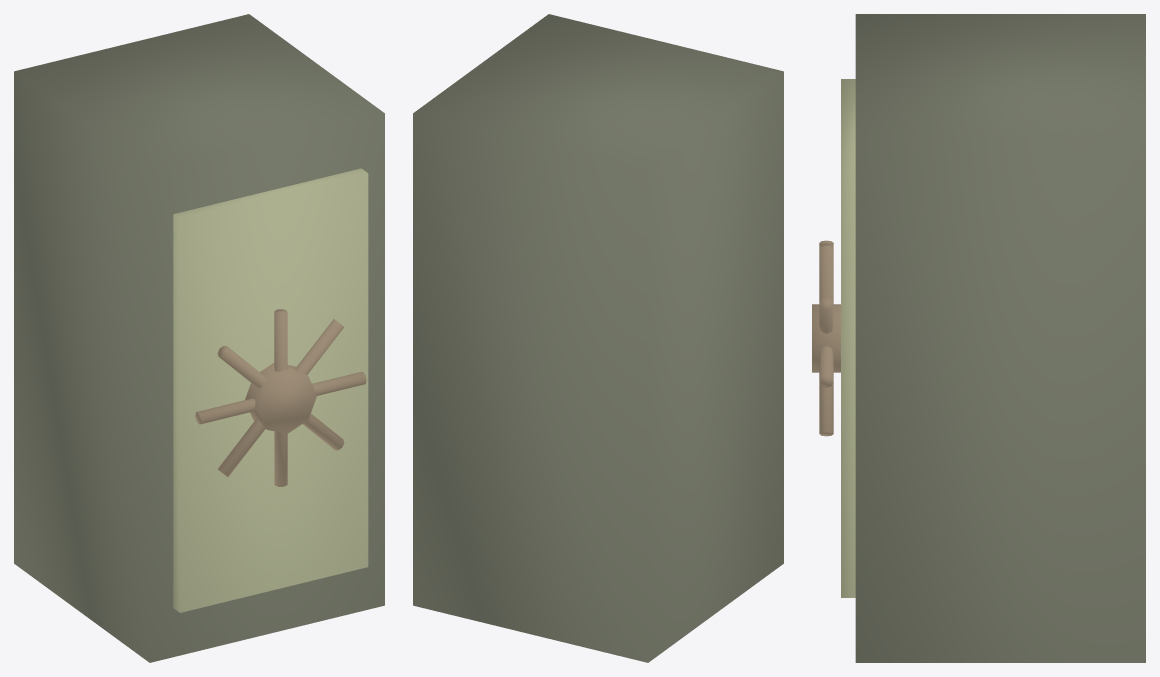
File: safe.glb
The picture shows the model from 3 angles, left to right: view 1: azimuth 30°, elevation 25°; view 2: azimuth 150°, elevation 25°; view 3: azimuth 270°, elevation 25°; orthographic projection. The views are drawn at different scales.
Visible parts, largest first — view 1: safe; view 2: safe; view 3: safe.
Part boxes in pixels (left/top/right/bottom): safe: left=14, top=14, right=384, bottom=662; safe: left=413, top=14, right=783, bottom=662; safe: left=812, top=14, right=1145, bottom=662.
Size of the model in its own units: 1 by 2 by 1.15.
1 material, 1 textured.
